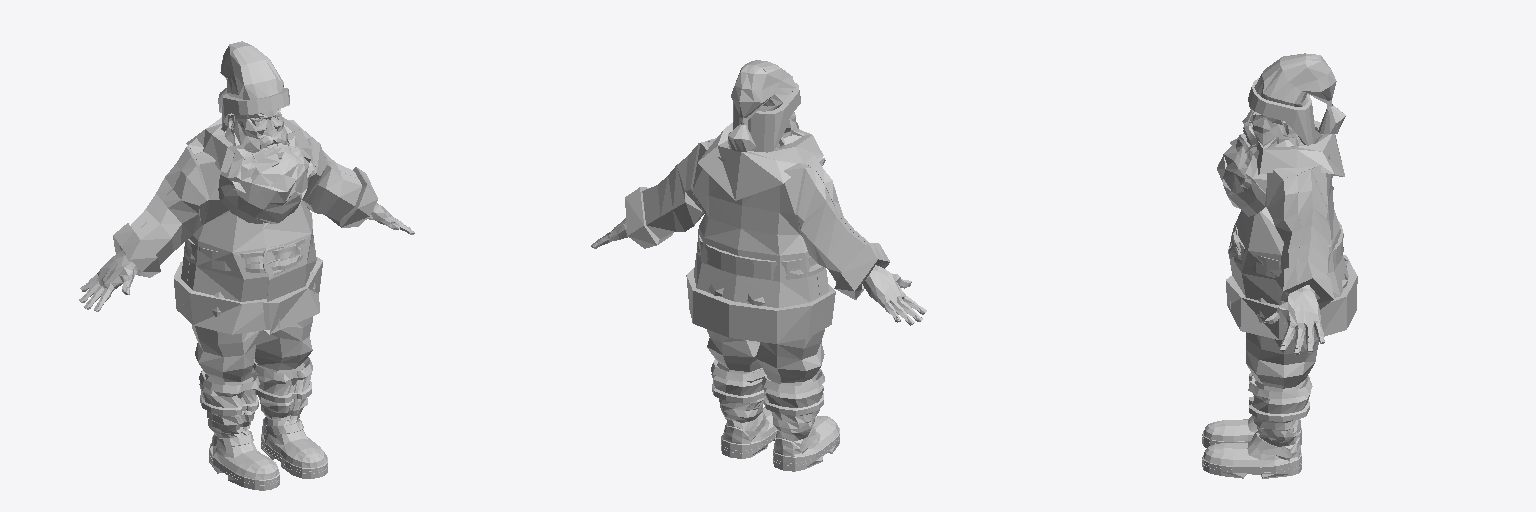
Rendered from Santa Claus.obj.
3 renders of one model, left to right at view 1: azimuth 30°, elevation 25°; view 2: azimuth 150°, elevation 25°; view 3: azimuth 270°, elevation 25°, orthographic.
Visible parts, largest first — view 1: Default, White, boots, barbes, pantalon, boots_semelle, main, Ceinturon, man; view 2: Default, White, boots, pantalon, boots_semelle, main, Ceinturon; view 3: Default, White, boots, barbes, pantalon, main, boots_semelle, Ceinturon, man.
Boxes of the visible parts, x1=… form: Default: x1=131, y1=41, x2=361, y2=301; White: x1=113, y1=87, x2=377, y2=334; boots: x1=199, y1=357, x2=327, y2=479; barbes: x1=218, y1=109, x2=313, y2=223; pantalon: x1=192, y1=271, x2=315, y2=398; boots_semelle: x1=209, y1=419, x2=327, y2=490; main: x1=81, y1=203, x2=414, y2=311; Ceinturon: x1=184, y1=219, x2=312, y2=272; man: x1=224, y1=109, x2=283, y2=148; Default: x1=642, y1=60, x2=868, y2=307; White: x1=625, y1=82, x2=889, y2=343; boots: x1=711, y1=359, x2=839, y2=455; pantalon: x1=707, y1=284, x2=824, y2=385; boots_semelle: x1=721, y1=412, x2=839, y2=471; main: x1=591, y1=218, x2=924, y2=325; Ceinturon: x1=697, y1=235, x2=823, y2=279; Default: x1=1229, y1=53, x2=1348, y2=304; White: x1=1226, y1=78, x2=1357, y2=339; boots: x1=1203, y1=373, x2=1312, y2=466; barbes: x1=1217, y1=124, x2=1296, y2=216; pantalon: x1=1246, y1=258, x2=1348, y2=391; main: x1=1264, y1=285, x2=1324, y2=354; boots_semelle: x1=1202, y1=415, x2=1301, y2=478; Ceinturon: x1=1228, y1=221, x2=1343, y2=277; man: x1=1242, y1=104, x2=1304, y2=146.
Size of the model in its own units: 1.79 by 2.1 by 0.7374.